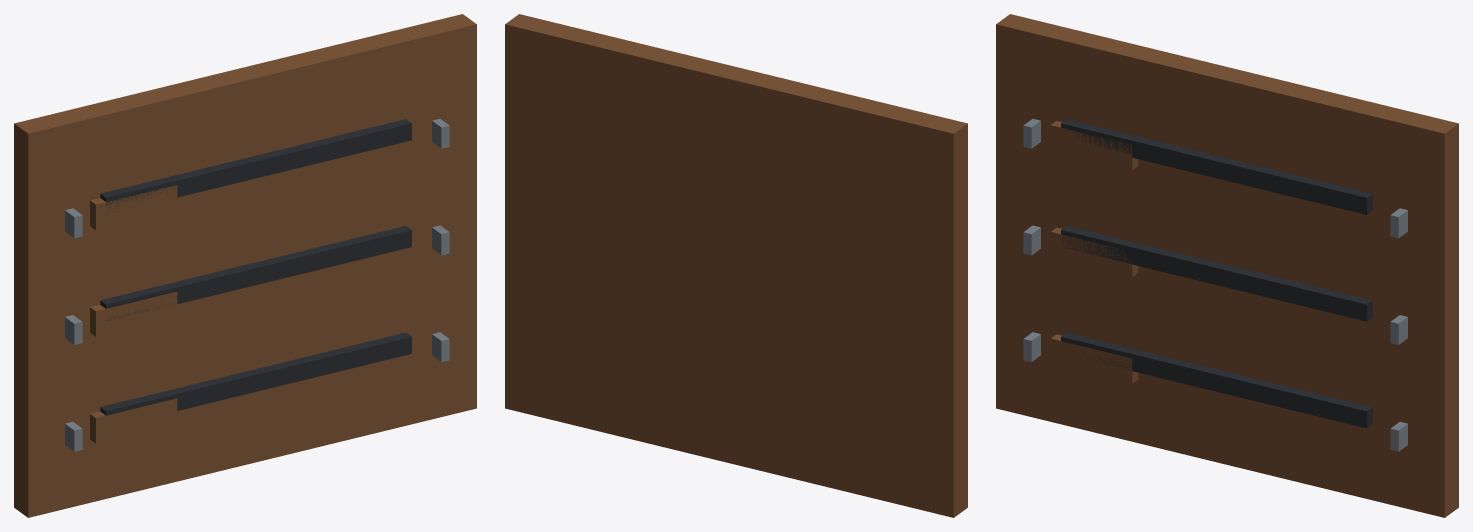
Rendered from gun_rack.glb.
3 renders of one model, left to right at view 1: azimuth 30°, elevation 25°; view 2: azimuth 150°, elevation 25°; view 3: azimuth 330°, elevation 25°, orthographic.
Parts seen in each view (by area): view 1: gun_rack_Body; view 2: gun_rack_Body; view 3: gun_rack_Body.
Boxes of the visible parts, bbox=[...] form: gun_rack_Body: bbox=[14, 14, 476, 517]; gun_rack_Body: bbox=[505, 14, 967, 517]; gun_rack_Body: bbox=[996, 14, 1458, 517].
Size of the model in its own units: 2.2 by 1.8 by 0.2.
